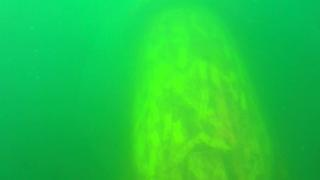pipe: (131, 1, 277, 179)
